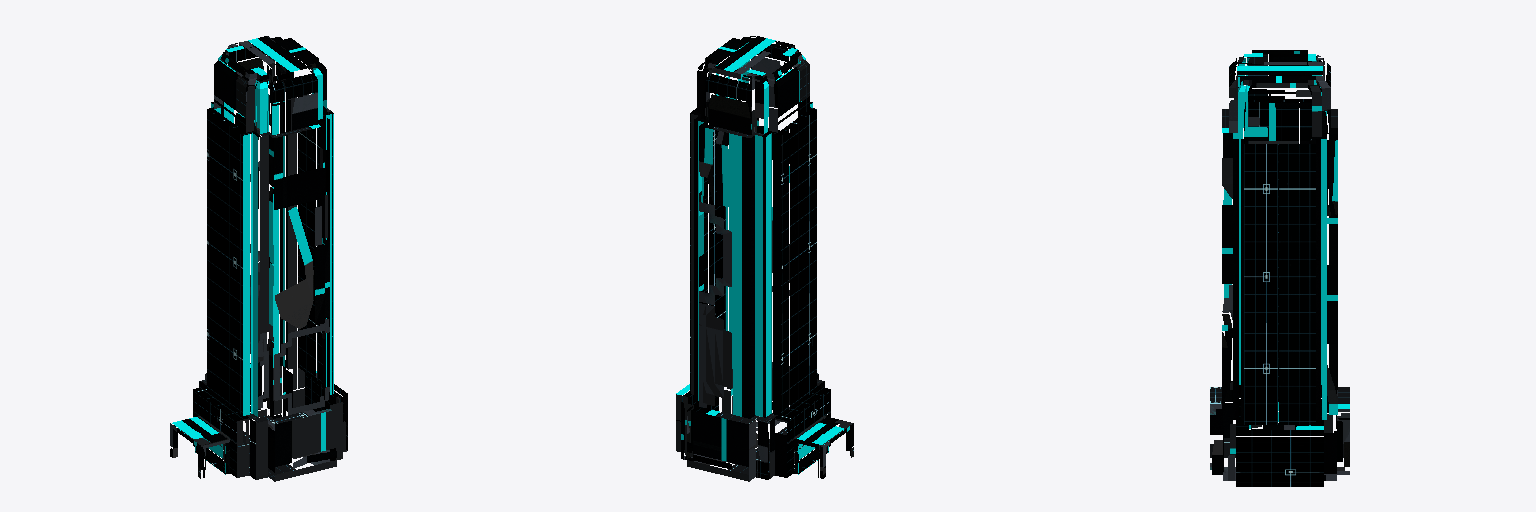
The picture shows the model from 3 angles: view 1: azimuth 30°, elevation 25°; view 2: azimuth 150°, elevation 25°; view 3: azimuth 270°, elevation 25°; orthographic projection.
Visible parts, largest first — view 1: Cube.005; view 2: Cube.005; view 3: Cube.005.
Boxes of the visible parts, box(x1,y1,x2,y2) form: Cube.005: box(170, 36, 347, 481); Cube.005: box(676, 36, 853, 481); Cube.005: box(1210, 50, 1349, 486).
Bounding box in the file's own units: 31.78 × 84.6 × 27.2.
Materials: 2 (1 with a texture image).